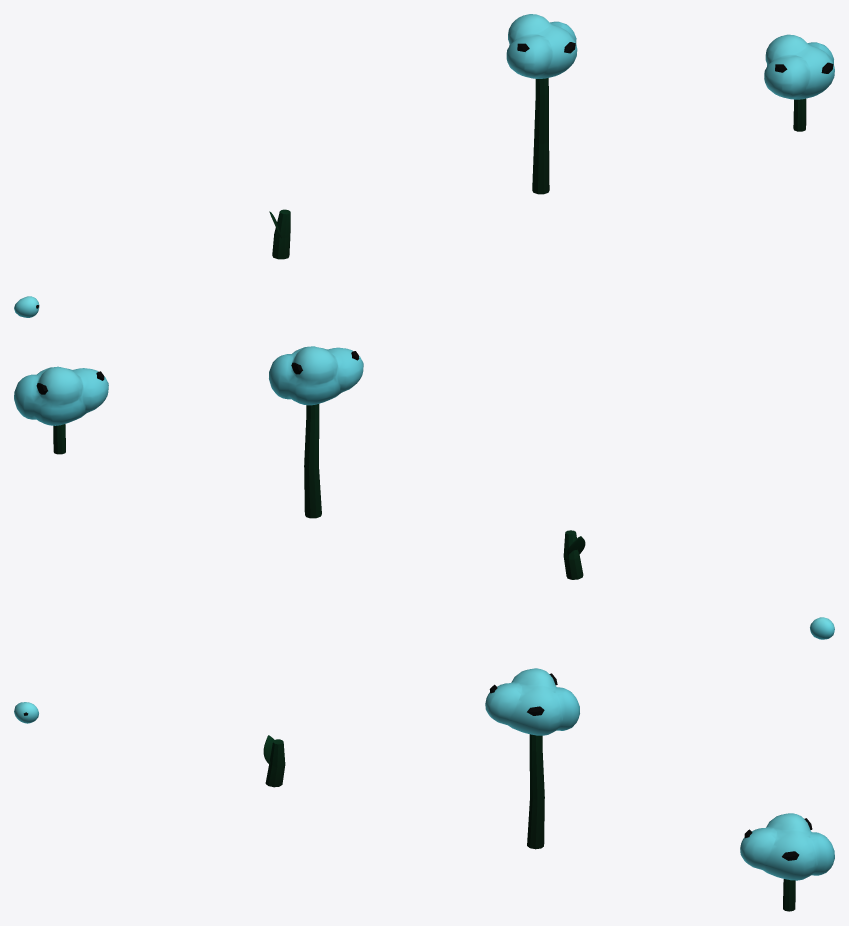
The picture shows the model from 3 angles, top to bottom: view 1: azimuth 30°, elevation 25°; view 2: azimuth 150°, elevation 25°; view 3: azimuth 330°, elevation 25°; orthographic projection.
Visible parts, largest first — view 1: Q_3, Q_4, Q_2; view 2: Q_3, Q_4, Q_2; view 3: Q_3, Q_4, Q_2.
Boxes of the visible parts, box(x1,y1,x2,y2) form: Q_3: box(506, 14, 577, 194); Q_4: box(764, 34, 834, 131); Q_2: box(269, 209, 290, 259); Q_3: box(269, 346, 363, 518); Q_4: box(14, 366, 108, 454); Q_2: box(563, 530, 585, 579); Q_3: box(485, 668, 579, 849); Q_4: box(740, 813, 834, 911); Q_2: box(263, 735, 285, 787).
Size of the model in its own units: 323 by 65 by 25.85.
